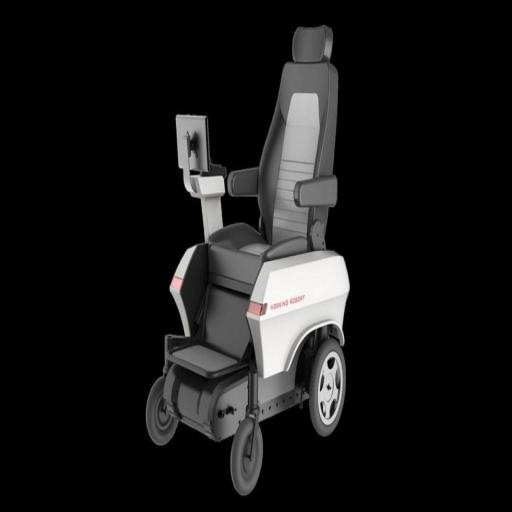cadeira_de_rodas: (139, 17, 366, 501)
